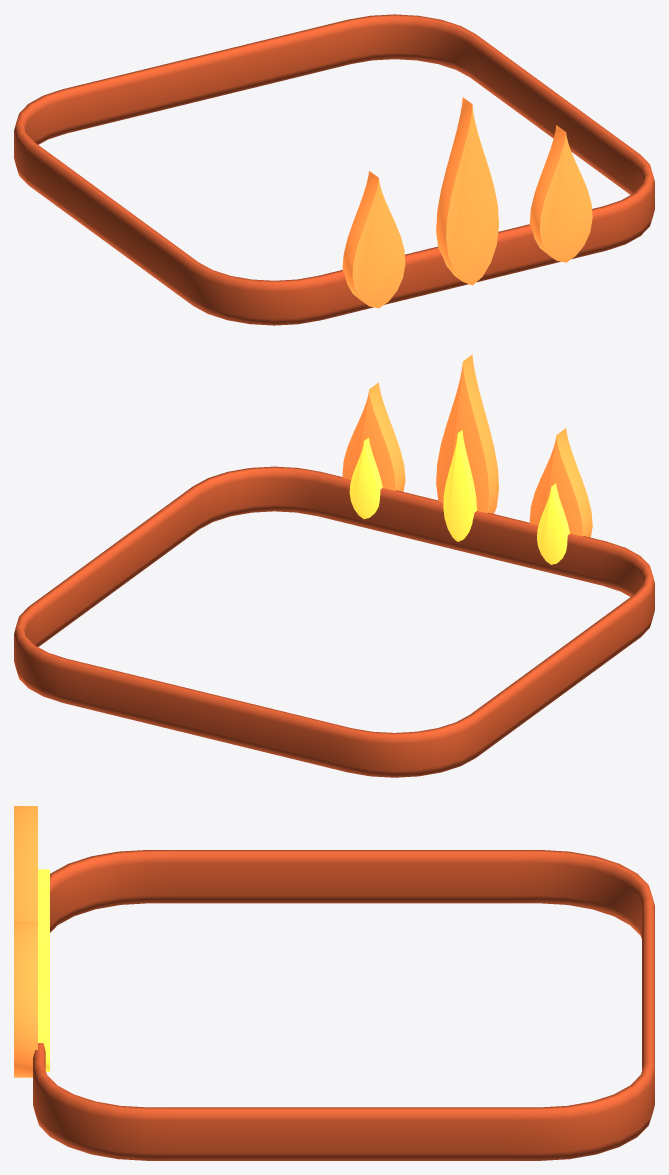
File: flame_band.glb
The picture shows the model from 3 angles, top to bottom: view 1: azimuth 30°, elevation 25°; view 2: azimuth 150°, elevation 25°; view 3: azimuth 270°, elevation 25°; orthographic projection. The views are drawn at different scales.
Parts seen in each view (by area): view 1: band, flame.001, flame, flame.002; view 2: band, flame.001, flame.002, flame, core.001, core, core.002; view 3: band, flame.002, flame.001, core.001, core.002.
Boxes of the visible parts, x1,y1,x2,y2 form: band: (14,14,654,325); flame.001: (436,97,498,285); flame: (342,171,405,308); flame.002: (529,125,592,262); band: (14,466,654,777); flame.001: (436,354,498,513); flame.002: (342,382,405,491); flame: (529,428,592,537); core.001: (443,430,476,541); core: (537,483,569,564); core.002: (349,437,382,519); band: (33,850,654,1160); flame.002: (14,921,37,1077); flame.001: (14,806,37,921); core.001: (38,887,49,978); core.002: (38,978,49,1071).
Size of the model in its own units: 1.3 by 0.5175 by 1.34.
